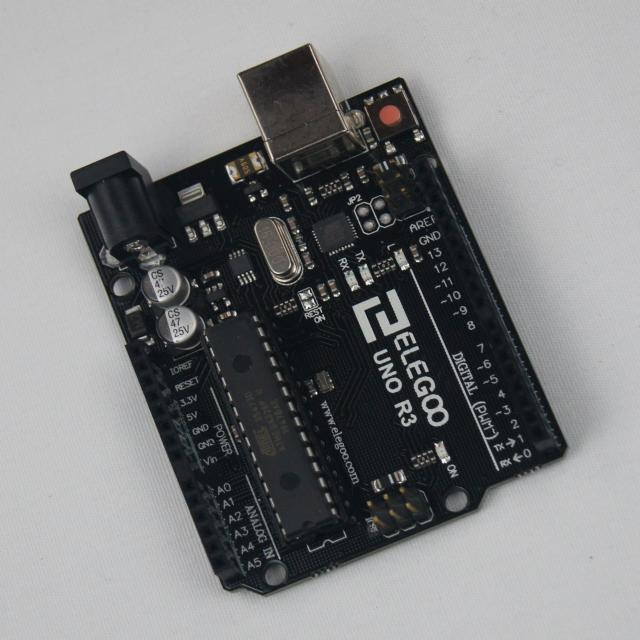Arduino Uno -Black-: (72, 45, 567, 595)
